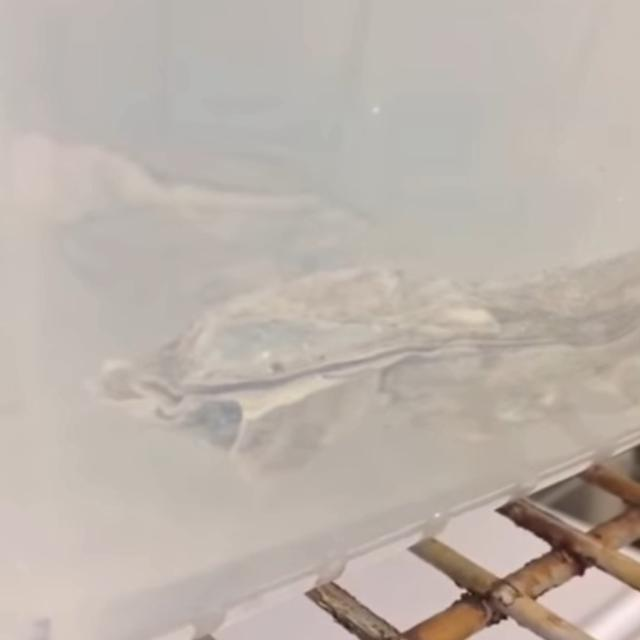Oyster-Closed: (91, 254, 640, 481)
Oyster-Indeterminate: (61, 140, 340, 240)
